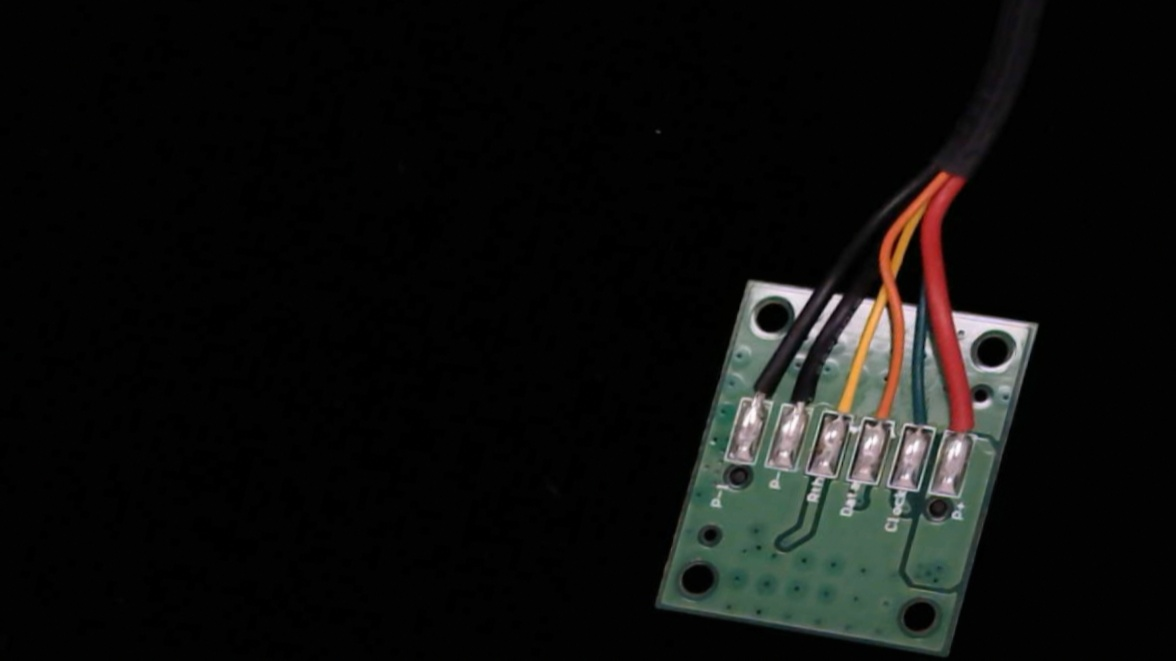Black: (776, 361, 828, 424)
Black1: (734, 365, 781, 420)
Green: (898, 388, 945, 441)
Orange: (859, 368, 906, 438)
Red: (939, 385, 986, 448)
Yellow: (821, 360, 872, 435)
